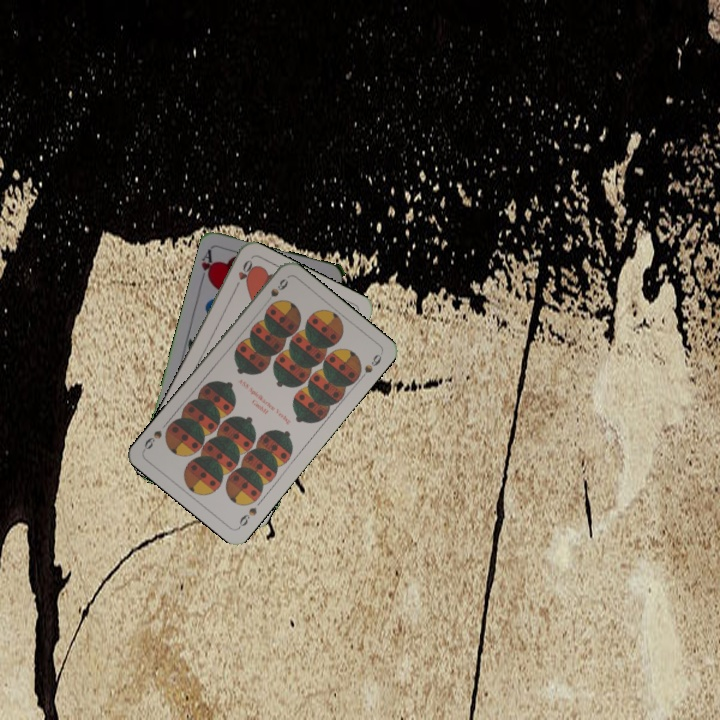HA: (196, 245, 218, 285)
HO: (230, 256, 255, 293)
S9: (260, 275, 291, 307), (234, 503, 260, 531)
